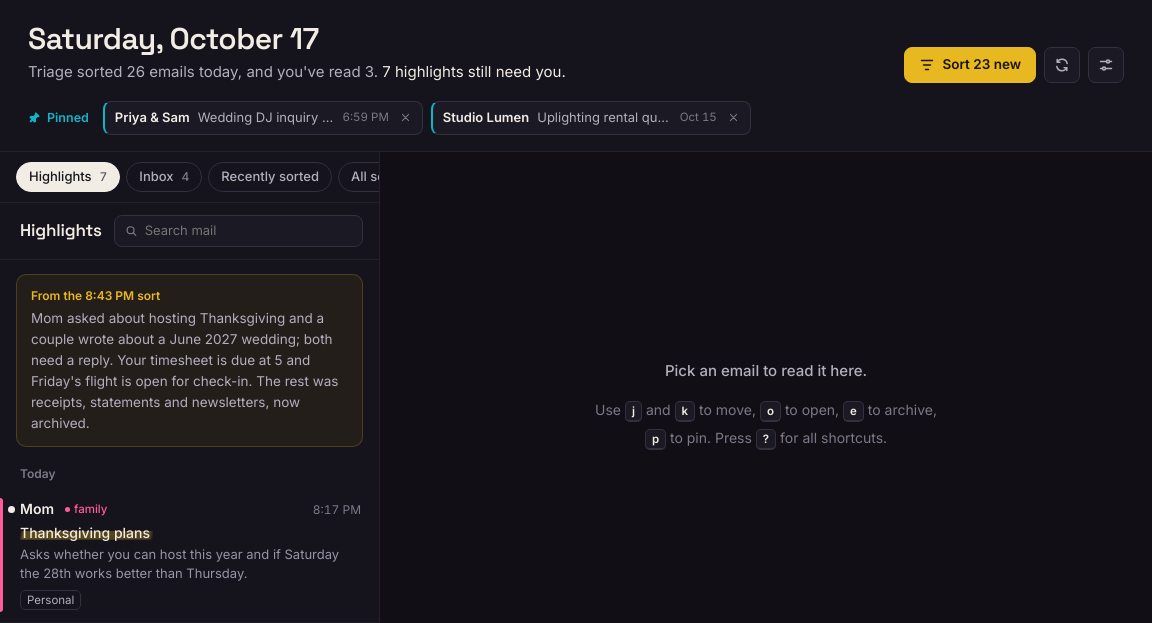
Scenario: Inbox dashboard › says when wegter-pc is unreachable and keeps its button off
Check: the text "Thanksgiving plans" is shown, box [18, 524, 152, 541]
Step 1. Click the button "Sort 23 new" → (970, 65), box [904, 47, 1036, 83]
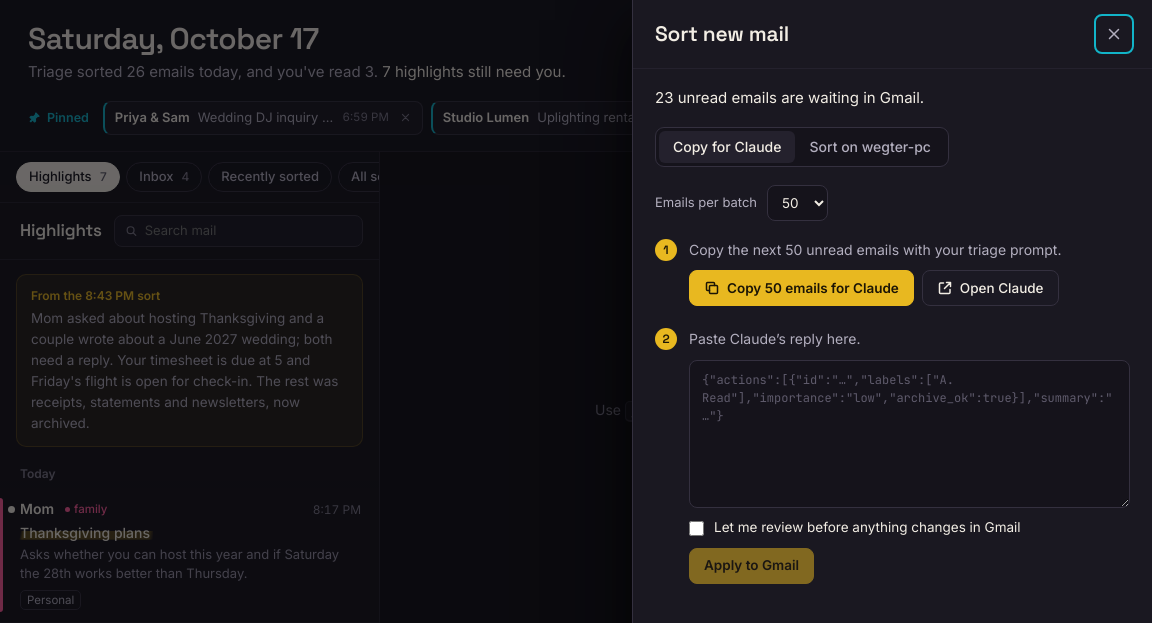
Step 2. Click the tab "Sort on wegter-pc" → (870, 147), box [796, 131, 945, 163]
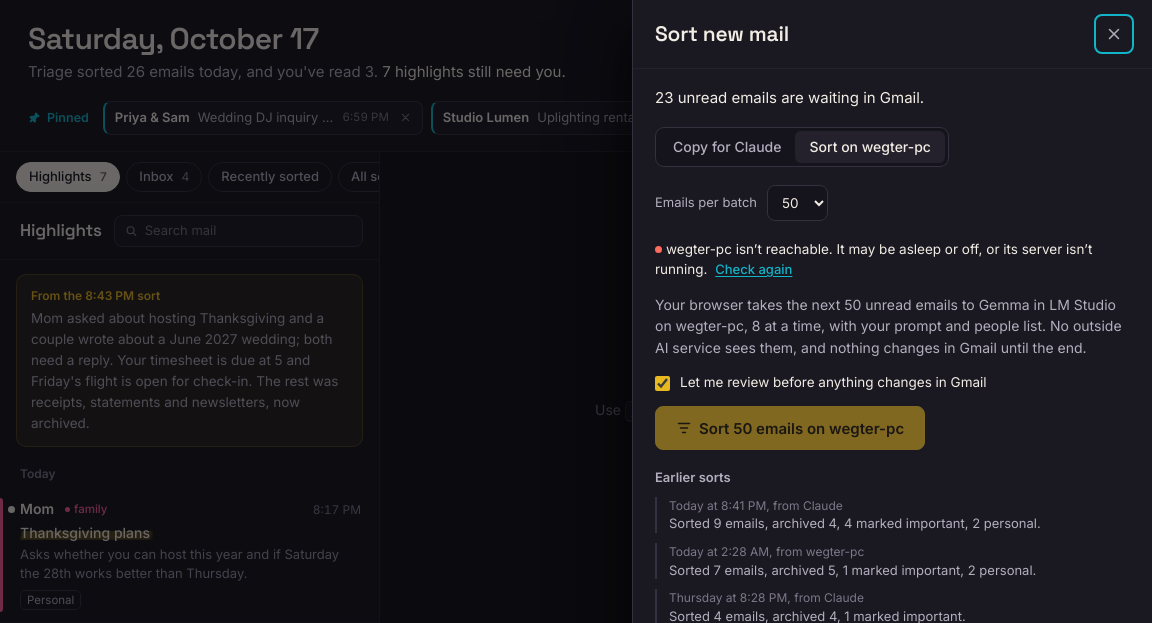
Check: the text "may be asleep or off" is shown, box [655, 241, 1092, 277]
Check: the button "Sort 50 emails on wegter-pc" is disabled, box [655, 406, 925, 450]
